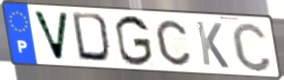C: (229, 20, 274, 73), (154, 18, 193, 67)
D: (70, 11, 116, 66)
G: (113, 14, 155, 68)
K: (194, 20, 231, 71)
V: (30, 9, 71, 63)
